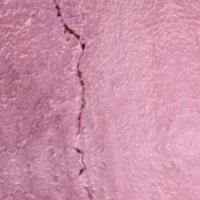crack: (43, 0, 102, 192)
